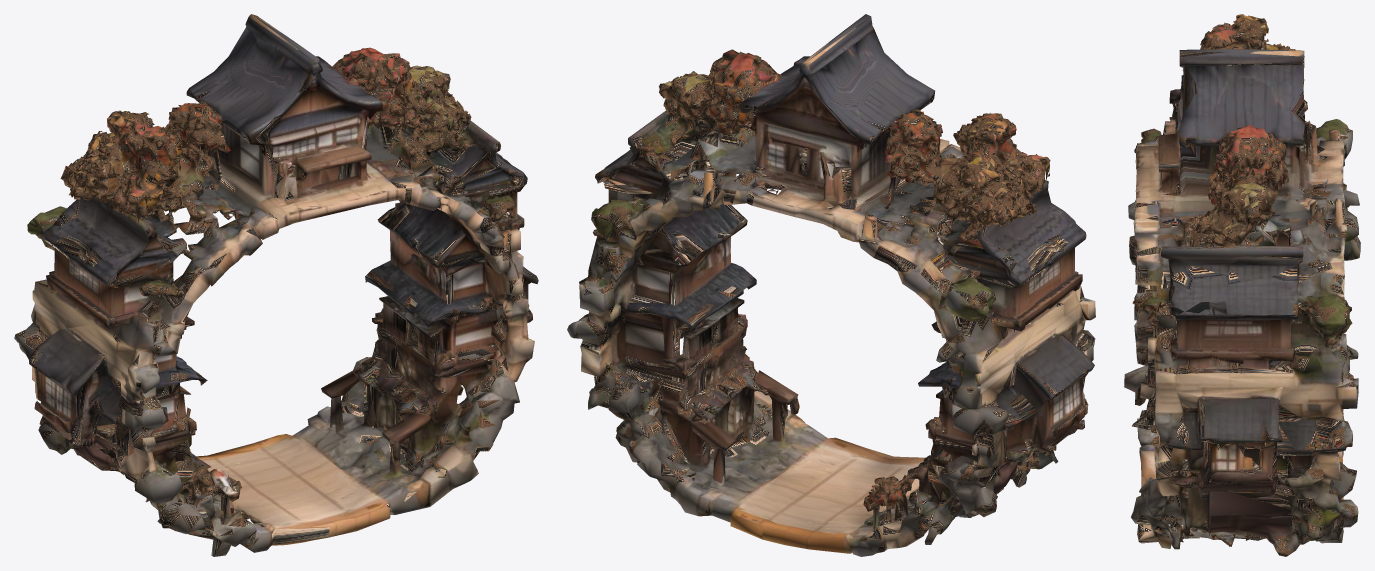
The model's file is Ring_Village_Diorama.glb.
3 renders of one model, left to right at view 1: azimuth 30°, elevation 25°; view 2: azimuth 150°, elevation 25°; view 3: azimuth 270°, elevation 25°, orthographic. The views are drawn at different scales.
Visible parts, largest first — view 1: Ring_Village_Diorama; view 2: Ring_Village_Diorama; view 3: Ring_Village_Diorama.
Part boxes in pixels (x1,y1,x2,y2): Ring_Village_Diorama: [14, 14, 538, 556]; Ring_Village_Diorama: [567, 14, 1095, 556]; Ring_Village_Diorama: [1124, 14, 1360, 556].
Size of the model in its own units: 2 by 1.93 by 0.8918.
1 material, 1 textured.
